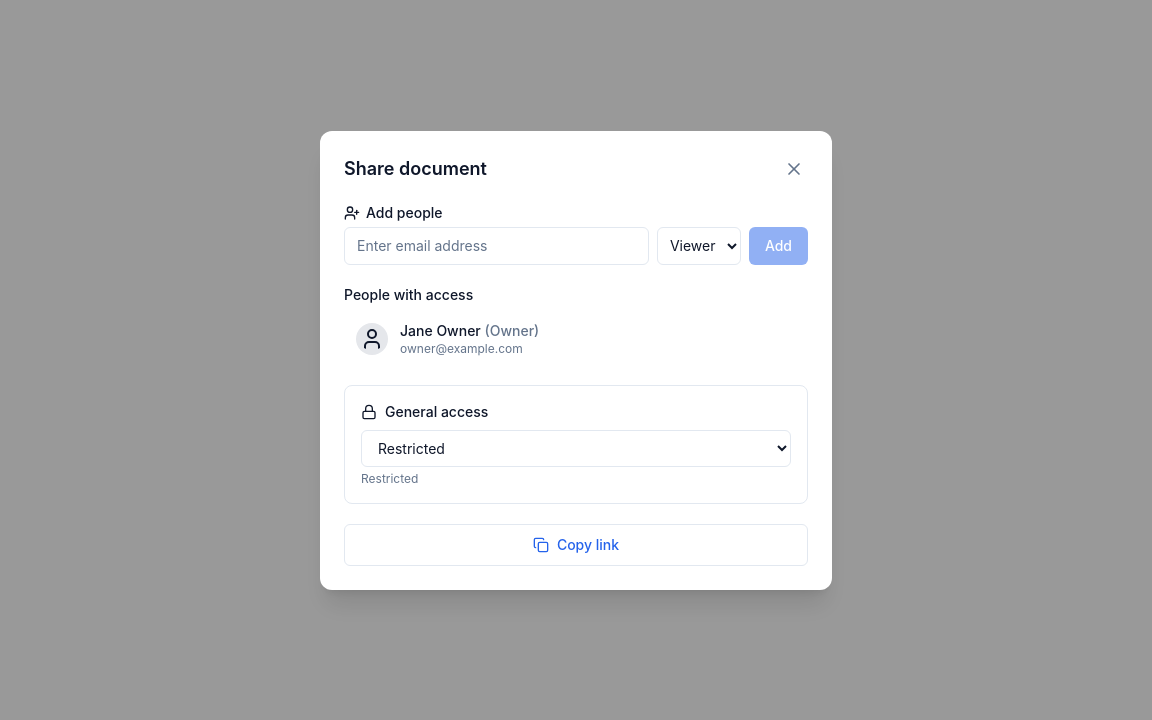
Test: ShareDialog › add collaborator error: shows fallback when no detail in response
Type "bad@example.com" into the field with placeholder "Enter email address".
click(496, 246); type("bad@example.com")  # box [344, 226, 649, 264]
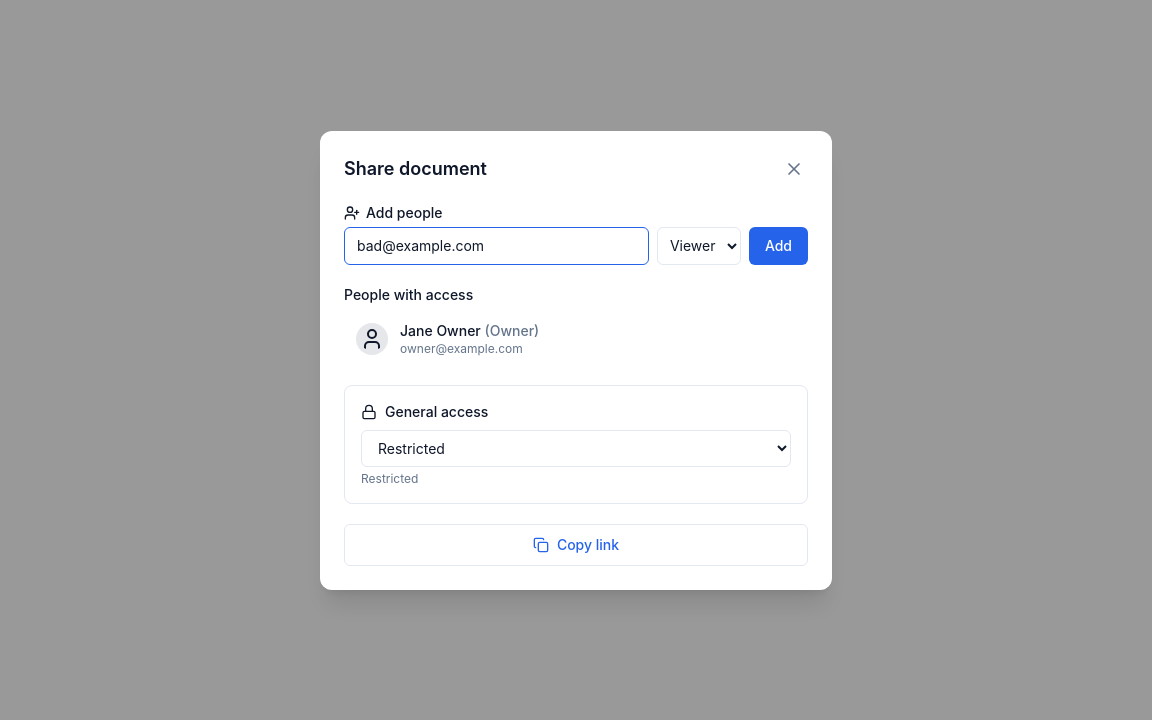
Click the button "Add".
click(778, 246)  # box [749, 226, 808, 264]
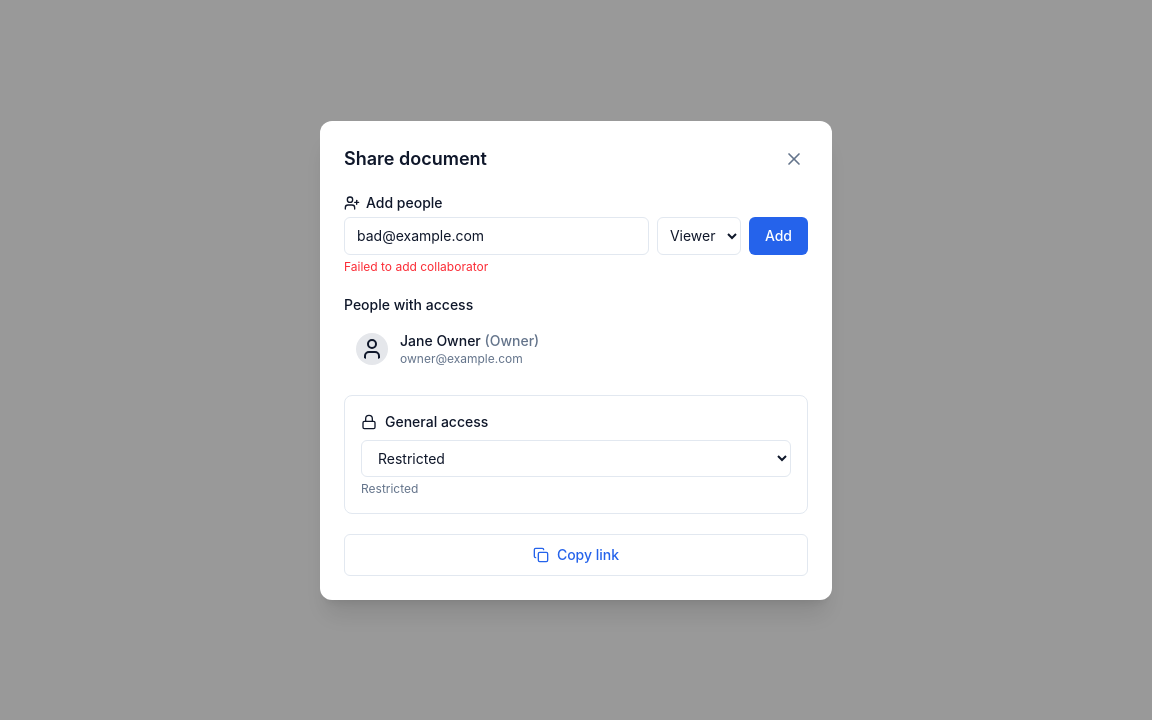
Check: the text "Failed to add collaborator" is shown, box [344, 258, 488, 274]
